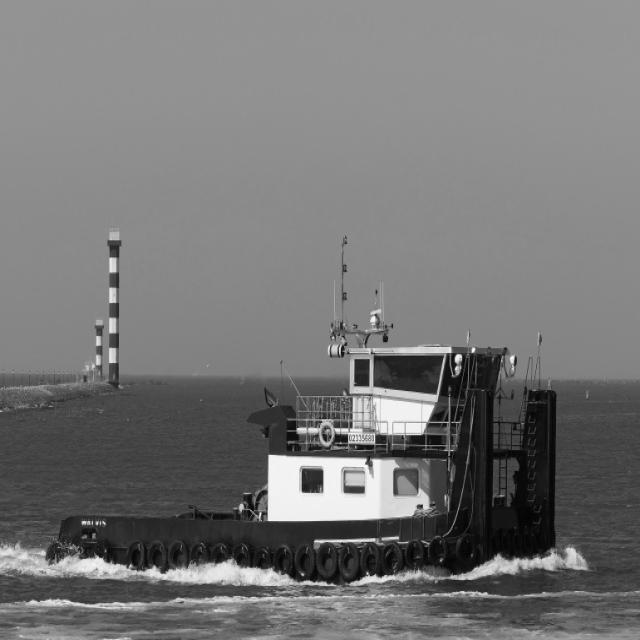tugboat: (42, 231, 560, 597)
